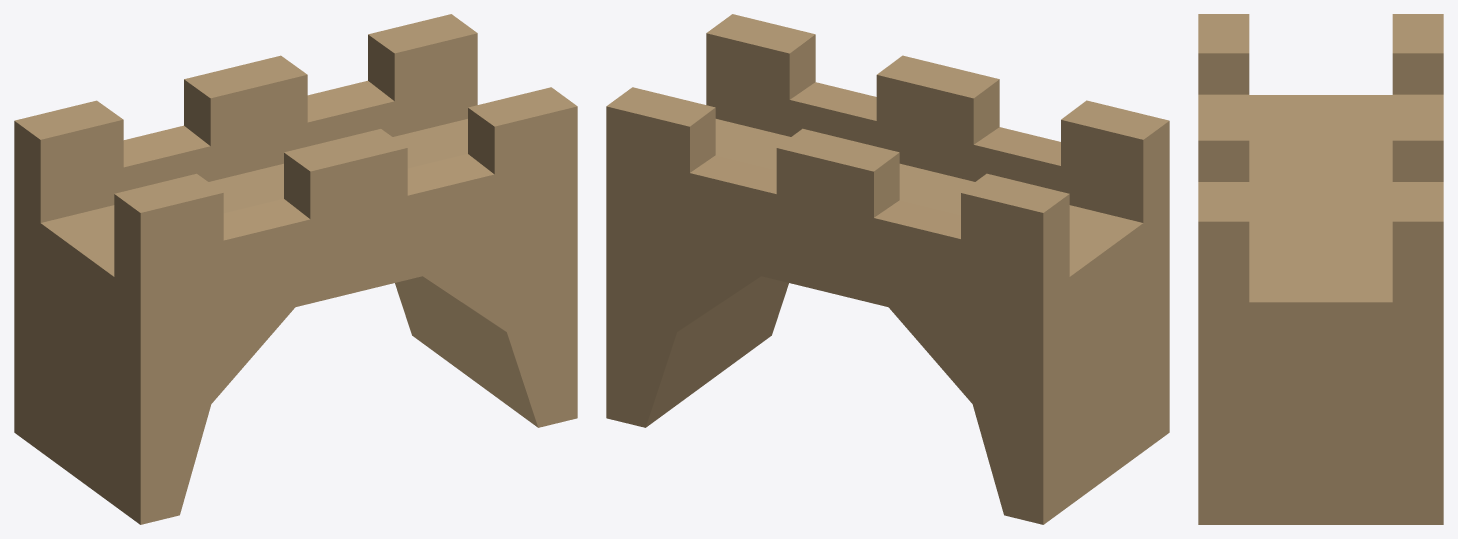
The model's file is bridge.fbx.
3 views of the same model, side by side, from view 1: azimuth 30°, elevation 25°; view 2: azimuth 150°, elevation 25°; view 3: azimuth 270°, elevation 25° (orthographic). The views are drawn at different scales.
Parts seen in each view (by area): view 1: bridge; view 2: bridge; view 3: bridge.
Boxes of the visible parts, left/top/right/bottom form: bridge: left=14, top=14, right=577, bottom=524; bridge: left=606, top=14, right=1169, bottom=524; bridge: left=1198, top=14, right=1443, bottom=524.
Bounding box in the file's own units: 10 × 5 × 6.82.
